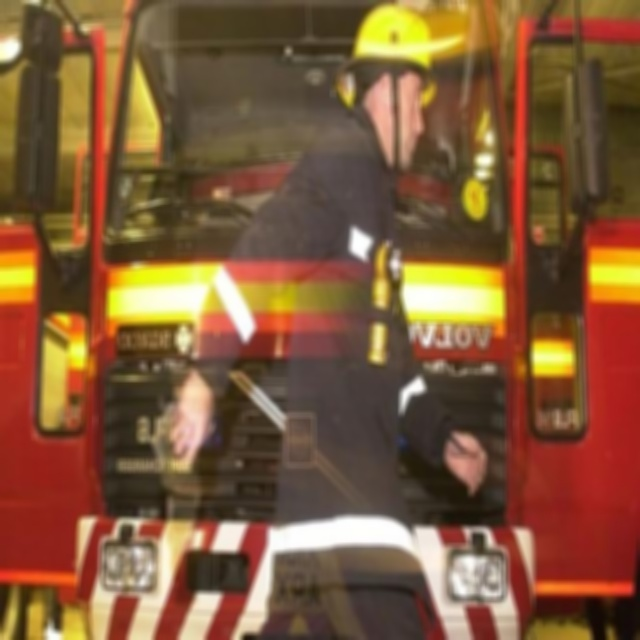Con_Casco: (333, 3, 434, 165)
